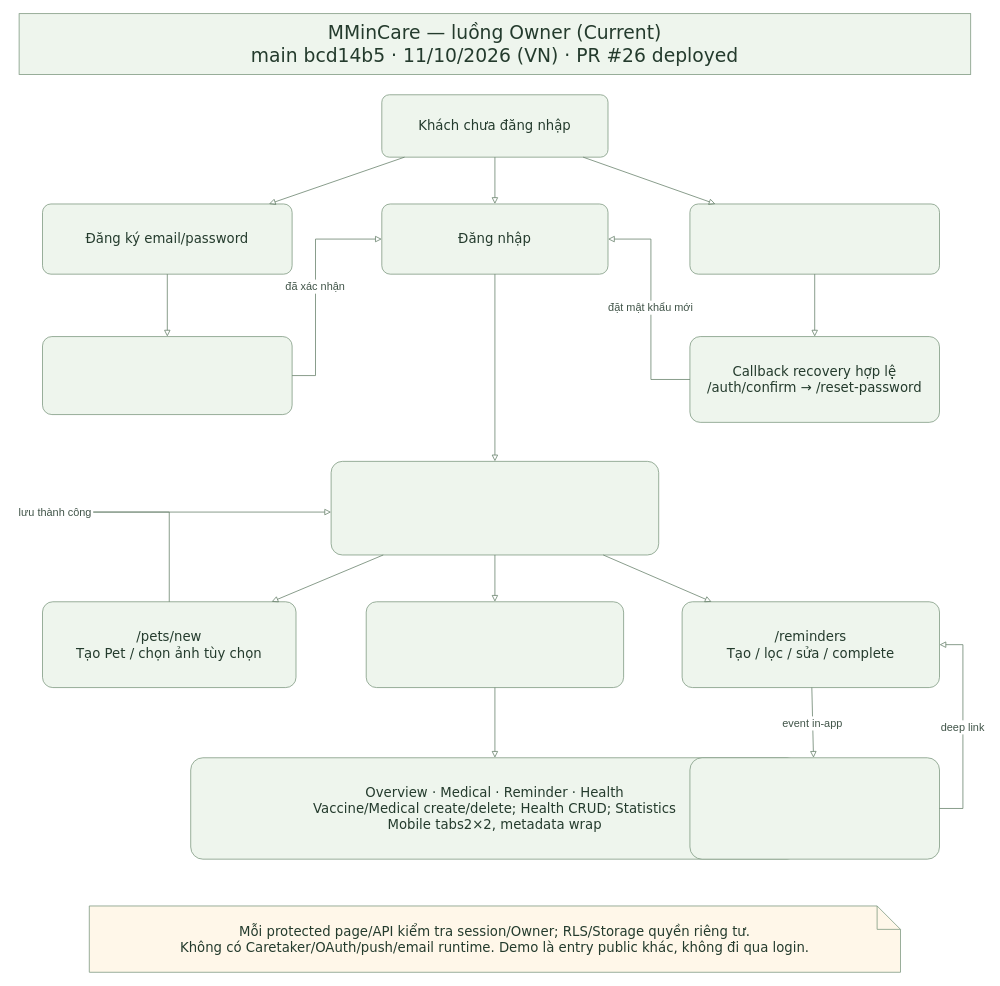
This 1000x986 diagram has some shape labels left out. Each missing label, with the centre of its shape:
/pets/{petId} Xem / sửa Pet và ảnh: point (494, 644)
Notification popover Đọc thành công → Reminder highlight: point (814, 808)
Quên mật khẩu: point (814, 238)
Session hợp lệ → /dashboard Danh sách Pet + latest journal summary: point (494, 508)
Xác nhận email /auth/confirm: point (167, 375)
